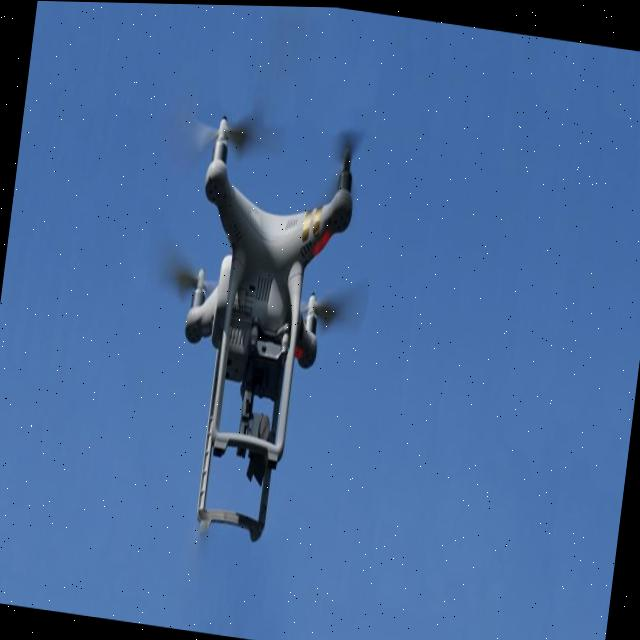drone: (130, 83, 410, 424)
